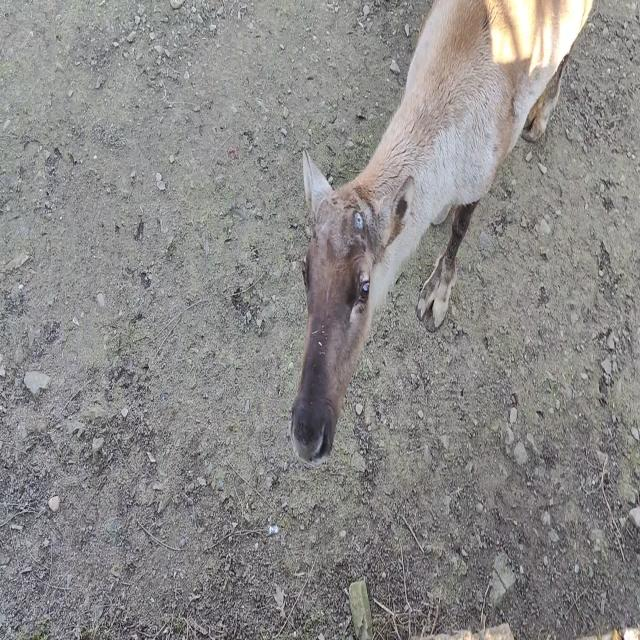deer: (289, 0, 594, 466)
